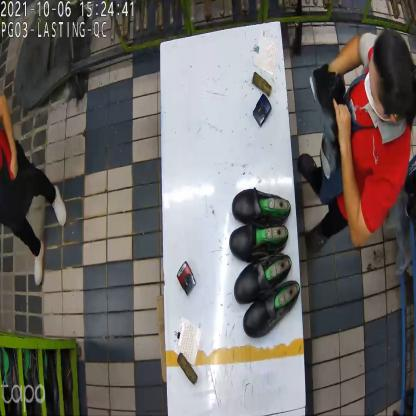shoes: (226, 250, 302, 335), (229, 184, 290, 257), (308, 70, 351, 155)
stamp: (251, 95, 271, 126), (179, 263, 196, 295)
